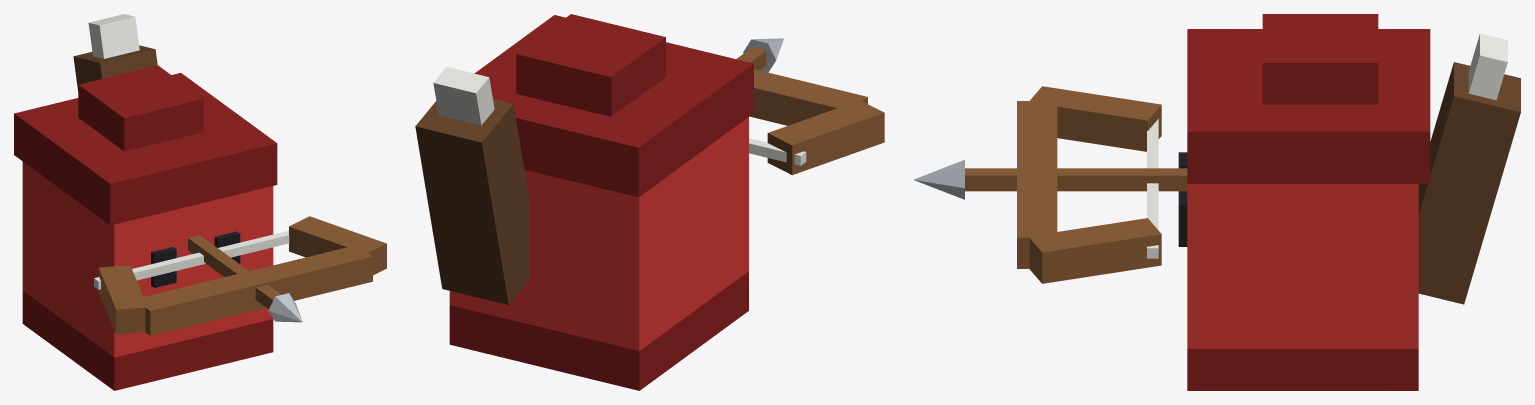
Rendered from archer_red.fbx.
3 renders of one model, left to right at view 1: azimuth 30°, elevation 25°; view 2: azimuth 150°, elevation 25°; view 3: azimuth 270°, elevation 25°, orthographic. The views are drawn at different scales.
Visible parts, largest first — view 1: archer_red; view 2: archer_red; view 3: archer_red.
Part boxes in pixels (x1,y1,x2,y2): archer_red: [14, 14, 386, 390]; archer_red: [415, 14, 884, 390]; archer_red: [913, 14, 1520, 390].
Bounding box in the file's own units: 0.681 × 0.6151 × 1.05.
